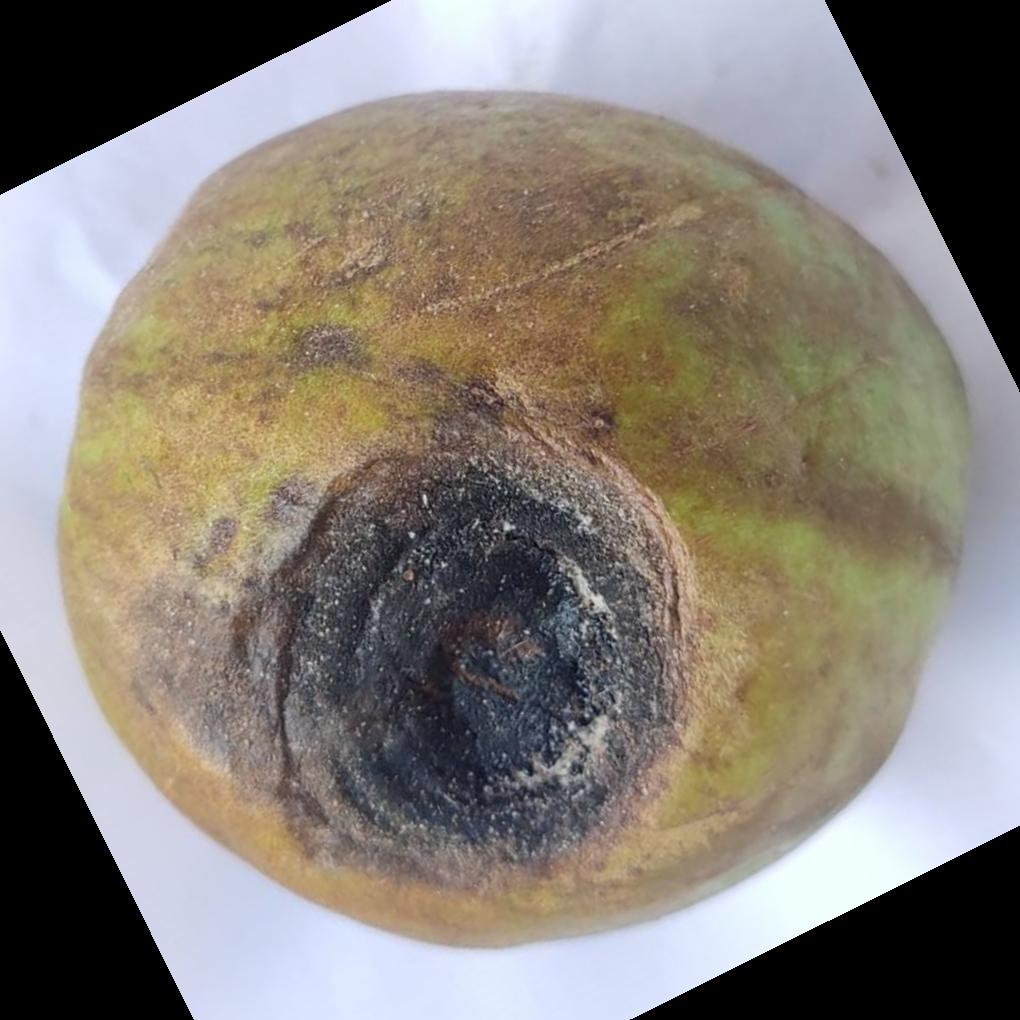FreshOrange: (55, 91, 976, 955)
